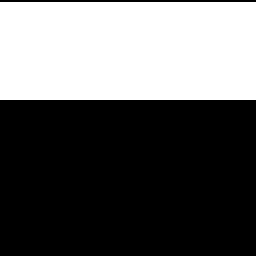rumex: (0, 2, 256, 99)
